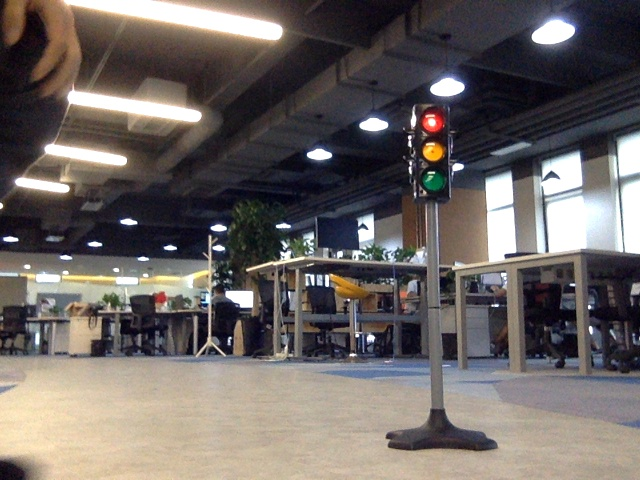red: (413, 105, 447, 195)
